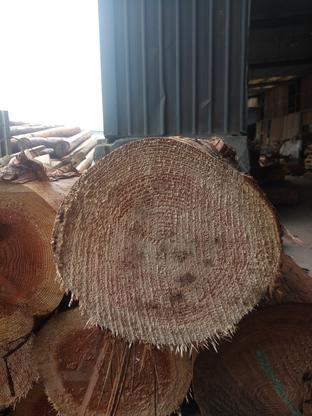mood: (51, 139, 283, 347)
